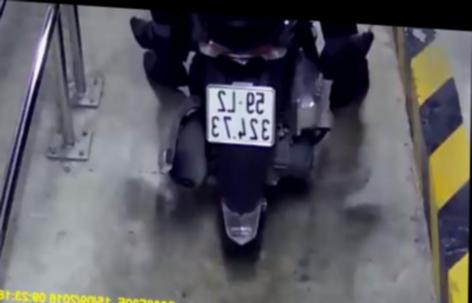License_Plate: (198, 78, 281, 154)
